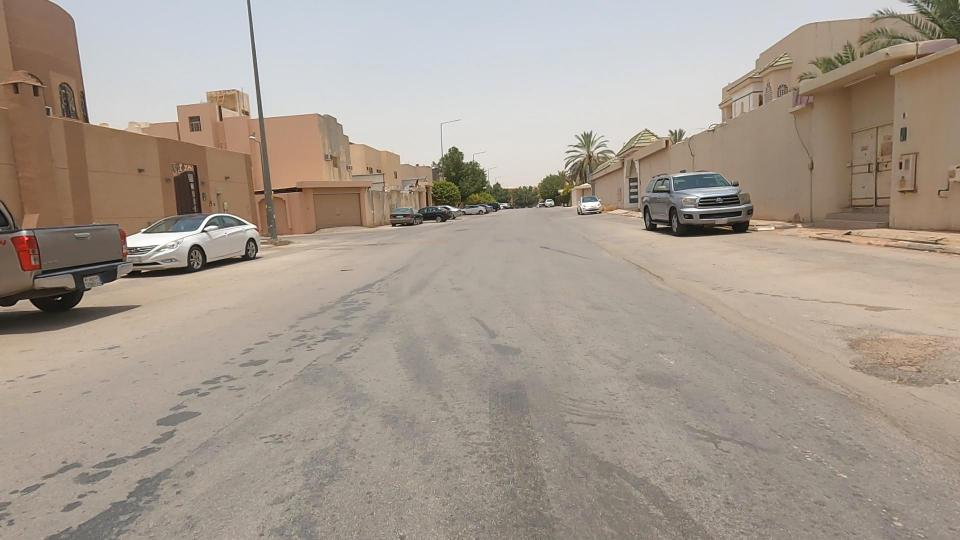POTHOLES: (783, 272, 960, 448)
